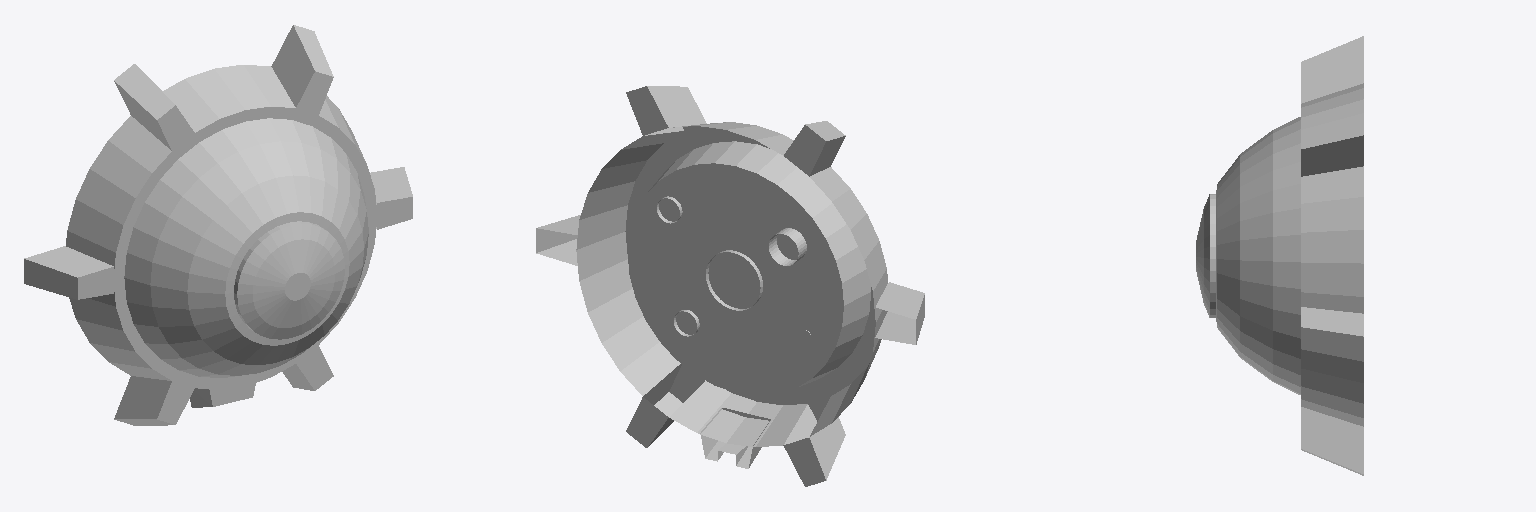
Rendered from facility.obj.
3 renders of one model, left to right at view 1: azimuth 30°, elevation 25°; view 2: azimuth 150°, elevation 25°; view 3: azimuth 270°, elevation 25°, orthographic.
Parts seen in each view (by area): view 1: Cylinder; view 2: Cylinder; view 3: Cylinder.
Part boxes in pixels (x1,y1,x2,y2): Cylinder: (24,25,412,425); Cylinder: (536,86,924,486); Cylinder: (1196,36,1363,475).
Size of the model in its own units: 1.91 by 1.74 by 0.7273.